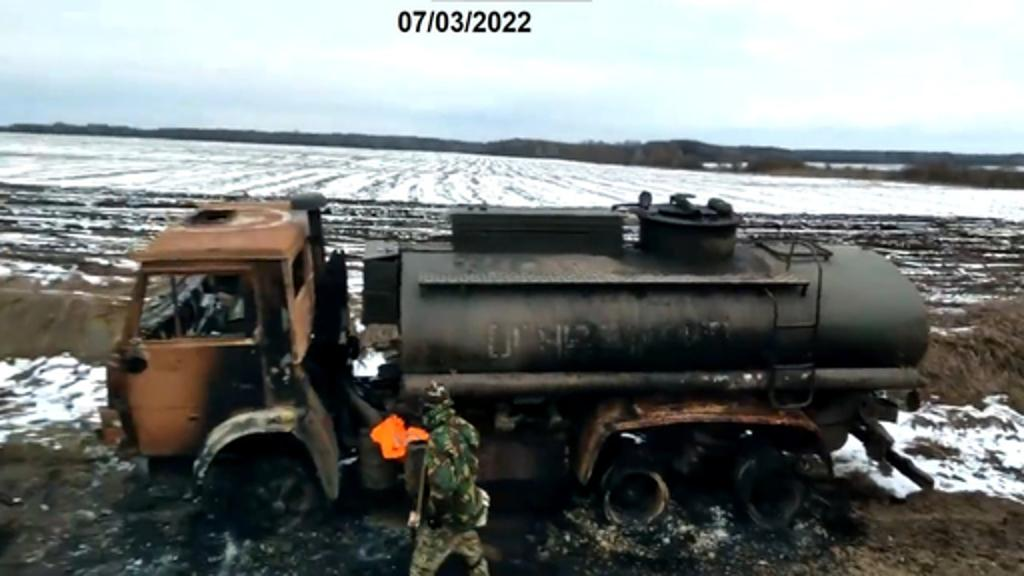TRUCK: (114, 184, 938, 542)
